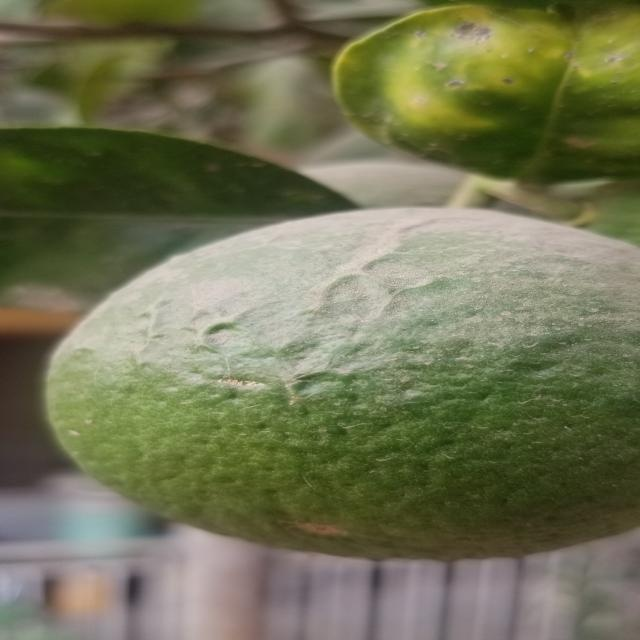agrume: (36, 198, 640, 586)
